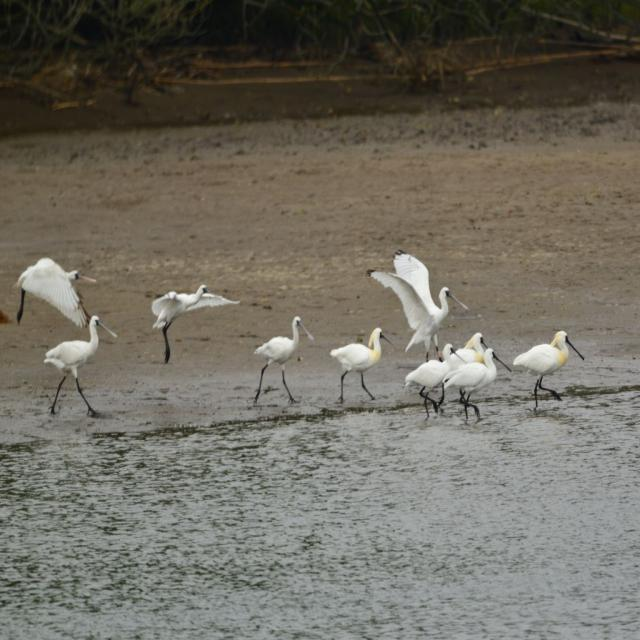bird: (21, 266, 122, 428), (359, 252, 470, 364), (142, 283, 239, 365), (7, 259, 102, 332), (422, 335, 502, 420), (500, 330, 582, 410), (326, 324, 387, 409), (400, 346, 471, 419), (250, 316, 305, 408)
